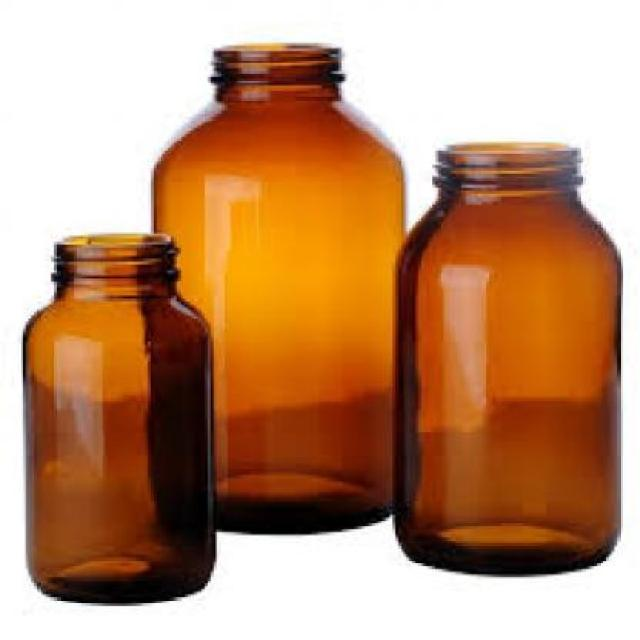kaca: (149, 40, 408, 534), (392, 147, 620, 576), (20, 235, 214, 603)
